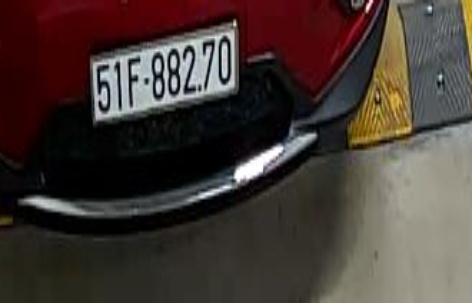plate: (83, 29, 242, 116)
